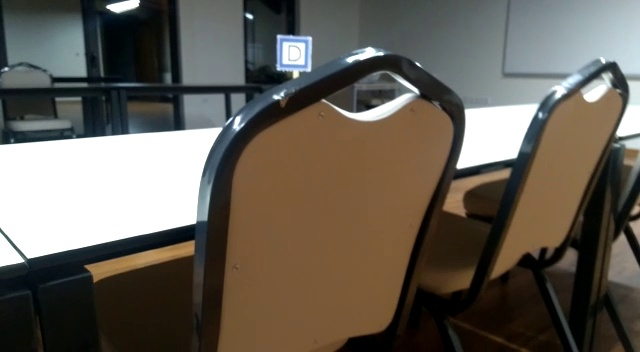durak: (276, 35, 310, 71)
